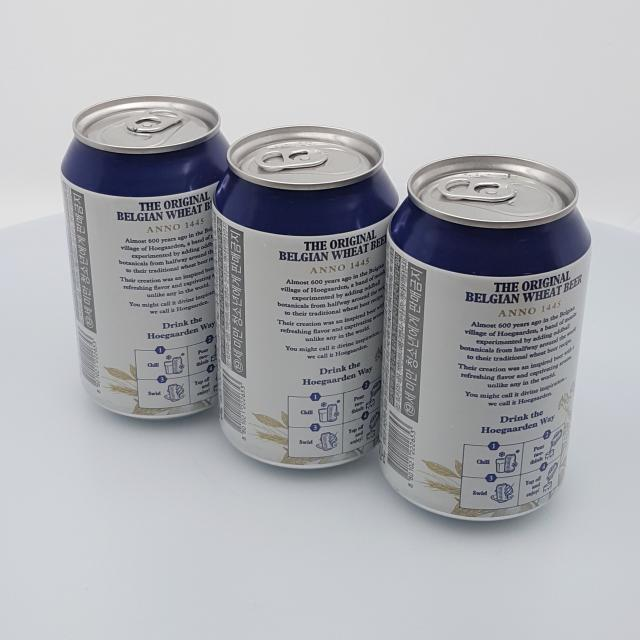beer-can: (378, 154, 592, 521), (211, 125, 400, 470), (60, 94, 234, 420)
